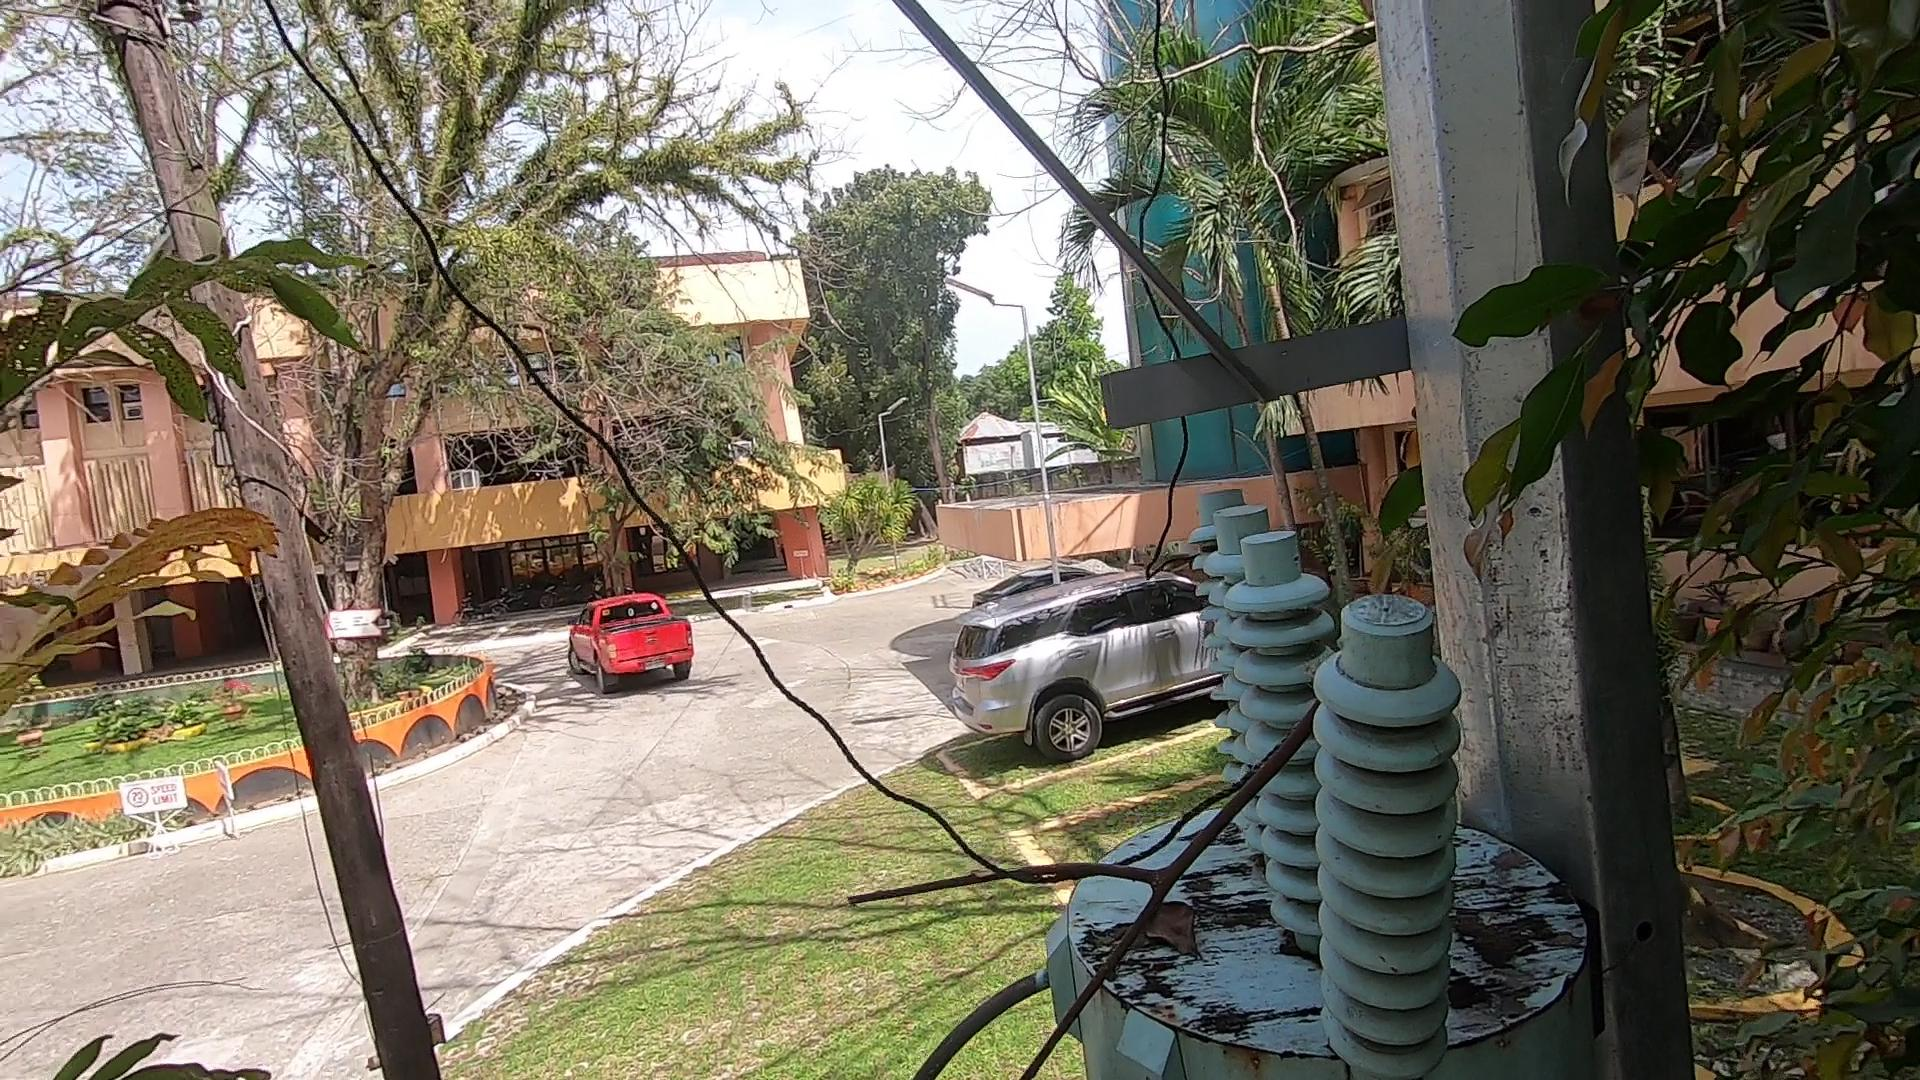leaf: (1122, 882, 1226, 975)
tree branch: (833, 702, 1356, 1080)
